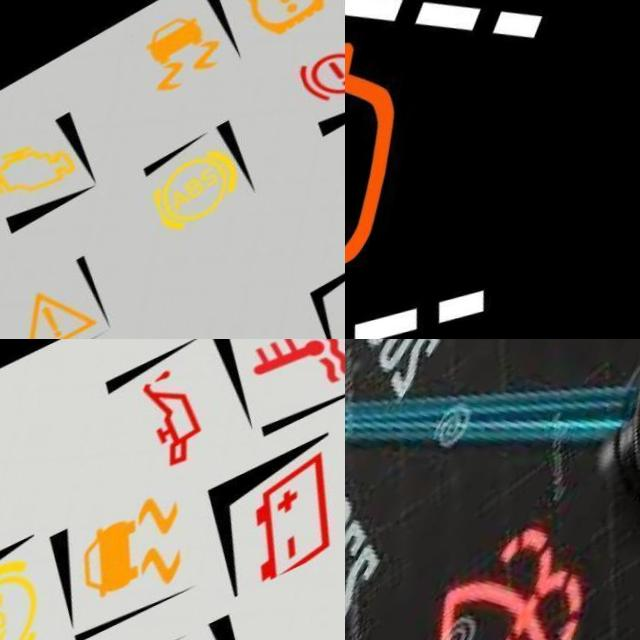Washer Fluid: (434, 529, 613, 640)
